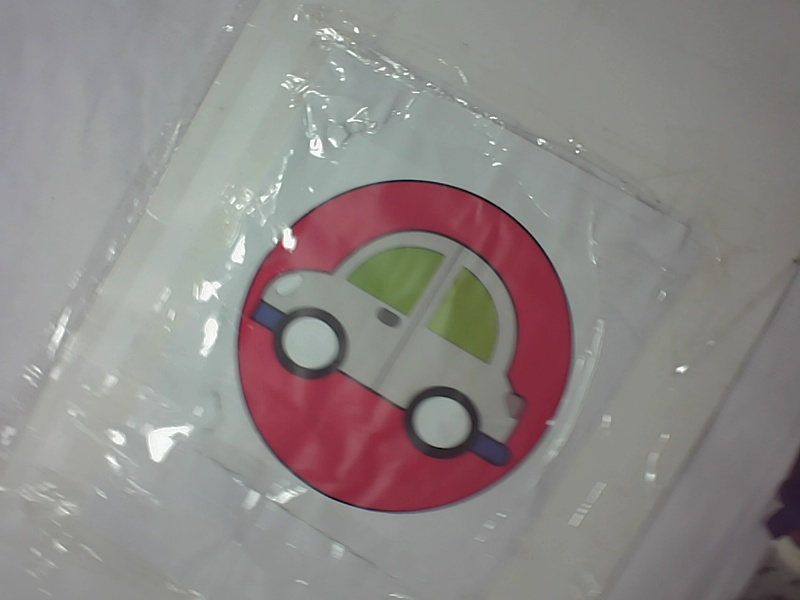areaC: (226, 167, 579, 523)
